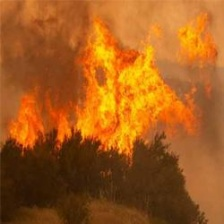fire: (3, 22, 223, 162)
